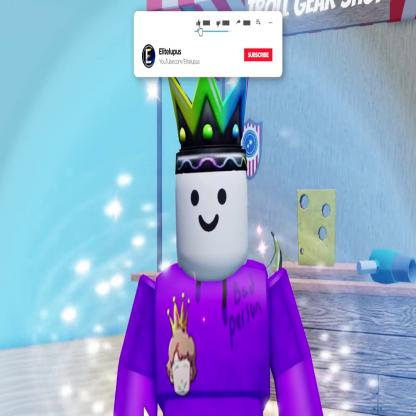Roblox-Avatar: (114, 78, 324, 416)
